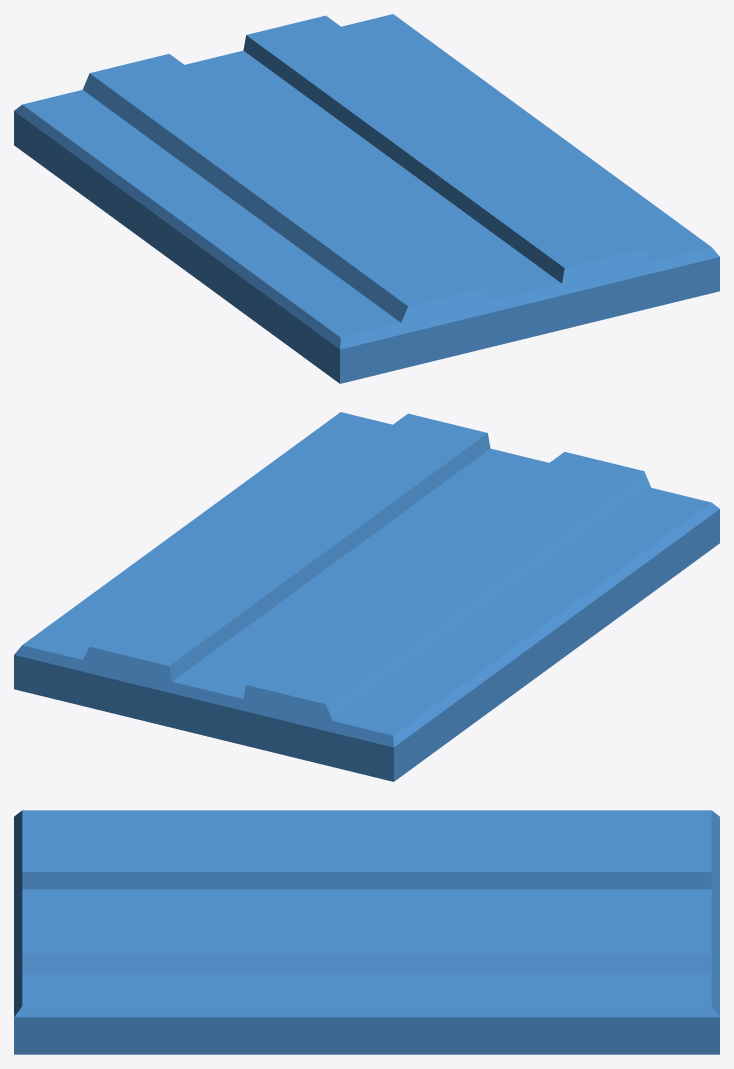
File: HULid.fbx
3 renders of one model, top to bottom at view 1: azimuth 30°, elevation 25°; view 2: azimuth 150°, elevation 25°; view 3: azimuth 270°, elevation 25°, orthographic. The views are drawn at different scales.
Parts seen in each view (by area): view 1: HULid; view 2: HULid; view 3: HULid.
Boxes of the visible parts, bbox=[...] form: HULid: bbox=[14, 14, 719, 383]; HULid: bbox=[14, 412, 719, 781]; HULid: bbox=[14, 810, 719, 1054].
Size of the model in its own units: 81.6 by 11.77 by 121.
